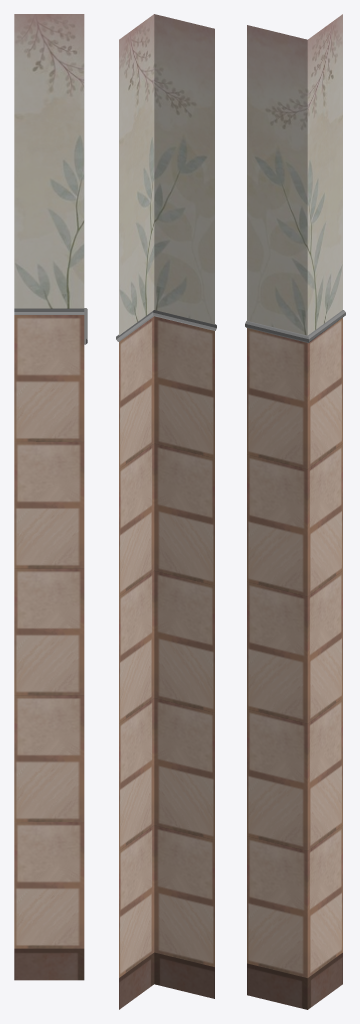
File: MT_BR_OpenCorner_Small.fbx
The picture shows the model from 3 angles, left to right: view 1: azimuth 90°, elevation 25°; view 2: azimuth 150°, elevation 25°; view 3: azimuth 330°, elevation 25°; orthographic projection.
Visible parts, largest first — view 1: MT_BR_OpenCorner_Small; view 2: MT_BR_OpenCorner_Small; view 3: MT_BR_OpenCorner_Small.
Boxes of the visible parts, <box> form: MT_BR_OpenCorner_Small: <box>14,14,87,980</box>; MT_BR_OpenCorner_Small: <box>116,14,216,1009</box>; MT_BR_OpenCorner_Small: <box>245,14,345,1009</box>.
Size of the model in its own units: 21 by 305 by 21.
